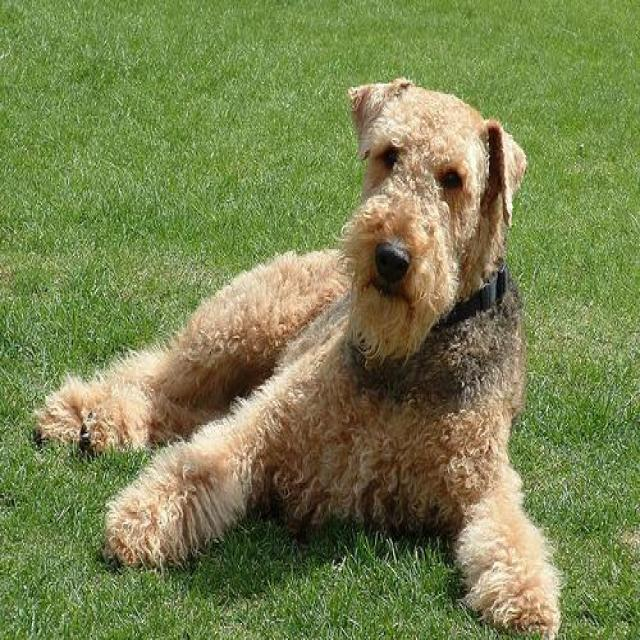airedale: (29, 69, 567, 638)
